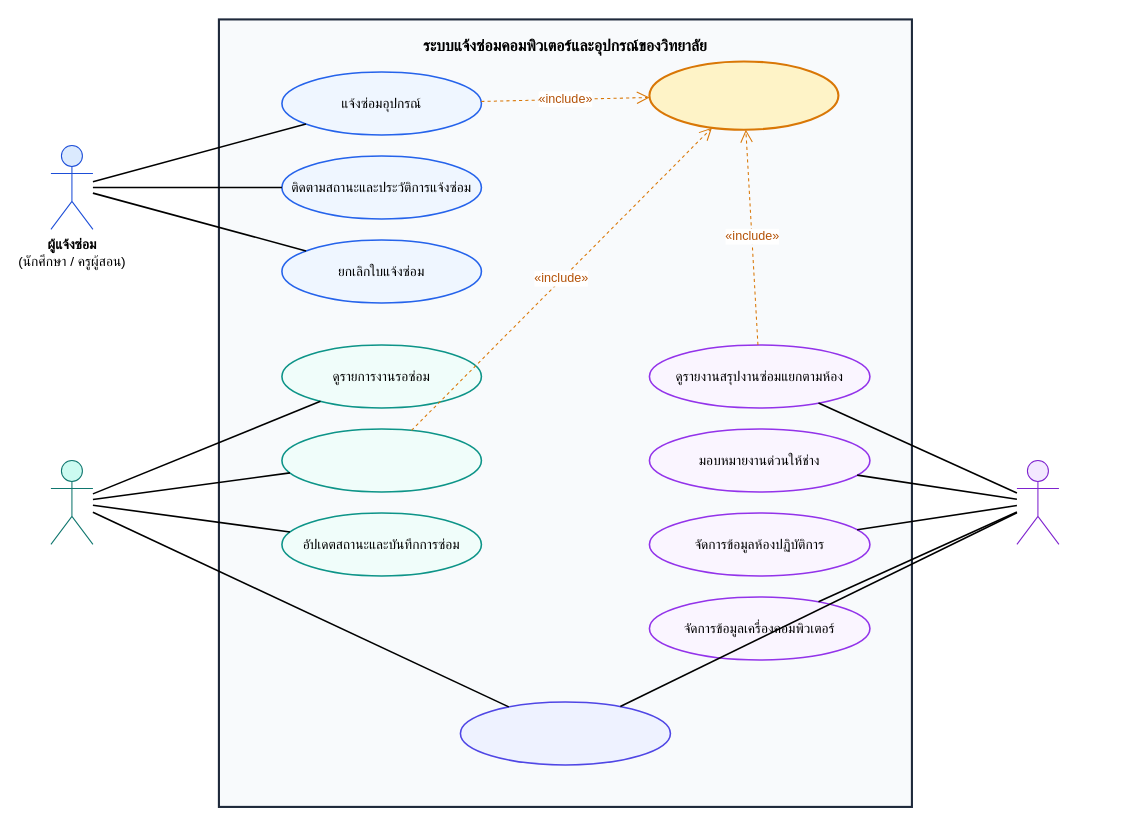
Image size: 1133x825. Some labels were removed from this diagram. The centre of each missing label's shape, as x and y in pixels:
ช่างเทคนิค: (71,501)
ดูประวัติการซ่อมของเครื่อง: (565,733)
รับงานซ่อม: (381,460)
หัวหน้างาน (อาคารสถานที่และคอมพิวเตอร์): (1037,501)
เข้าสู่ระบบ (Login): (743,95)
